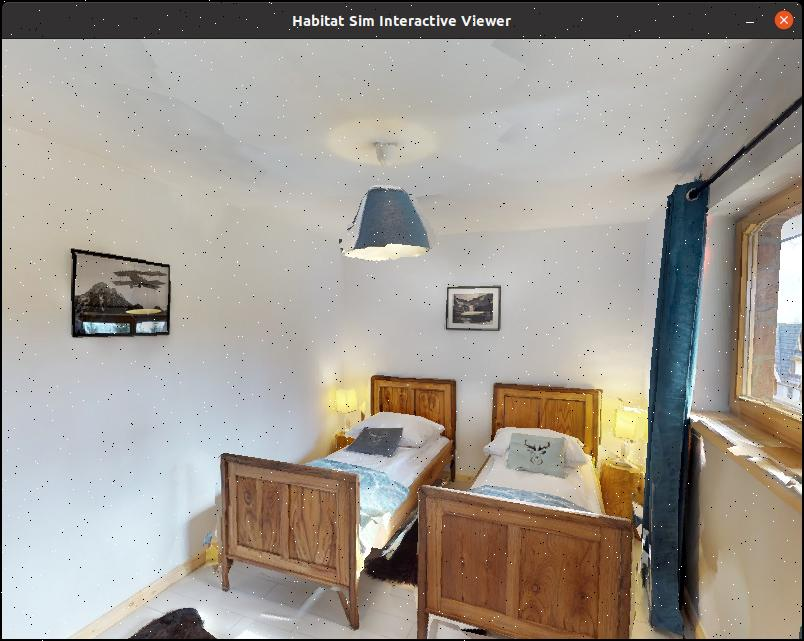bed: (189, 361, 477, 616), (400, 377, 656, 641)
